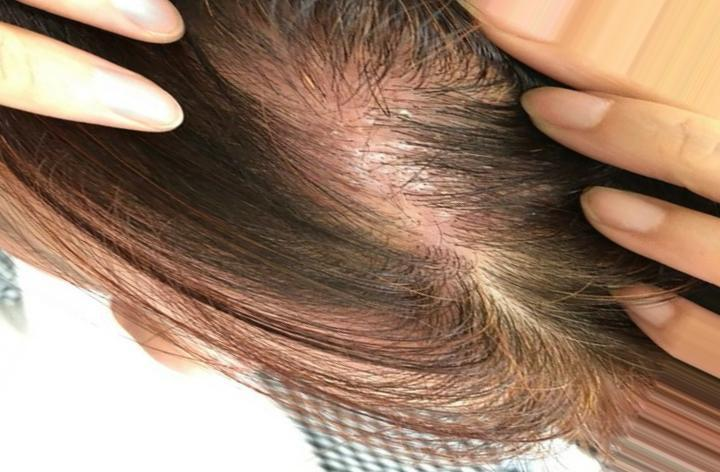Contact Dermatitis: (214, 10, 491, 261)
